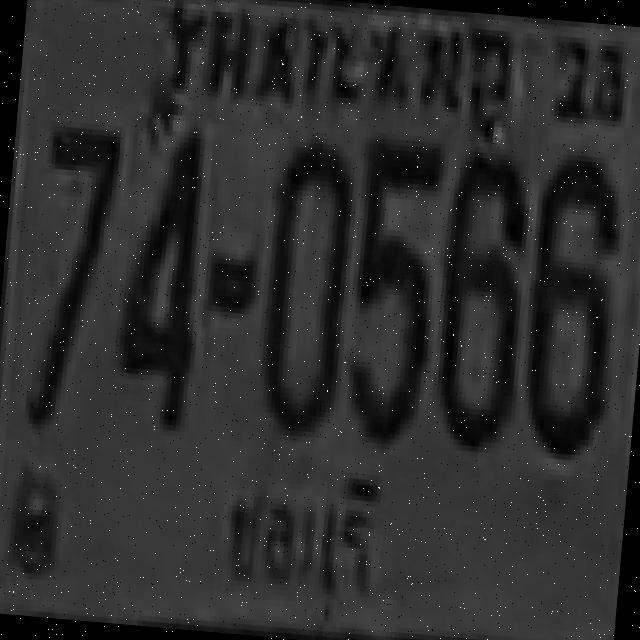0: (252, 137, 352, 431)
4: (108, 122, 210, 426)
5: (339, 137, 442, 440)
6: (516, 150, 622, 453), (424, 147, 529, 440)
7: (31, 122, 121, 346), (34, 120, 121, 312)
Chonburi: (205, 460, 394, 628)
